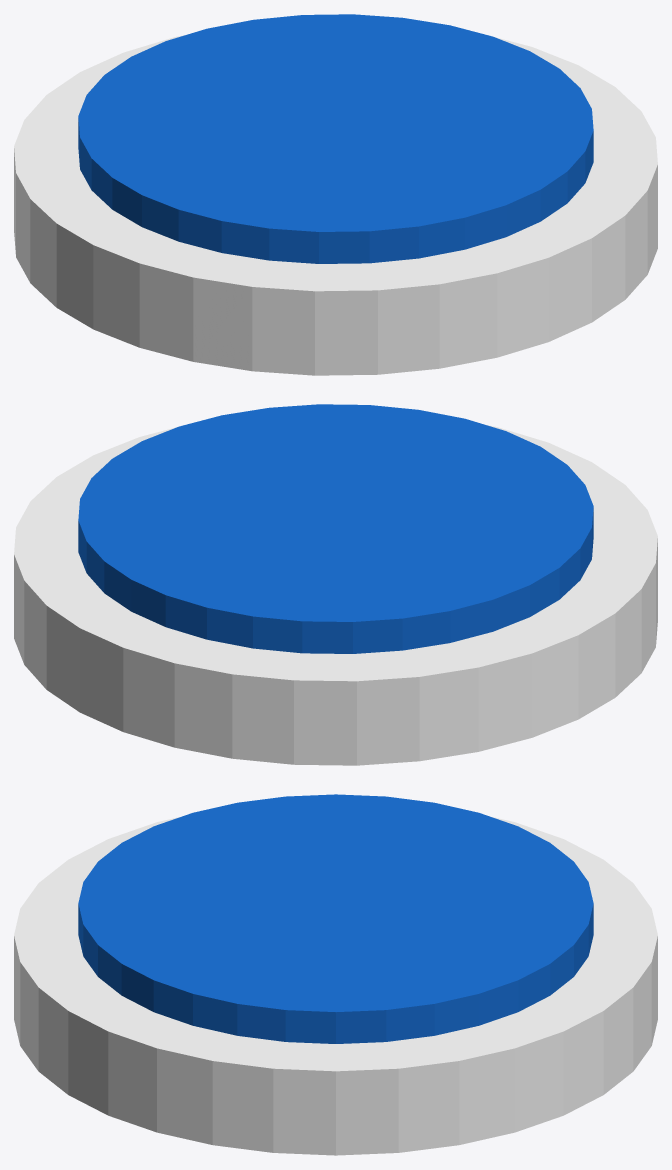
Rendered from locationPuck.glb.
3 views of the same model, one above another, from view 1: azimuth 30°, elevation 25°; view 2: azimuth 150°, elevation 25°; view 3: azimuth 270°, elevation 25° (orthographic).
Visible parts, largest first — view 1: Circle.001, Circle.002; view 2: Circle.001, Circle.002; view 3: Circle.001, Circle.002.
Boxes of the visible parts, x1,y1,x2,y2 form: Circle.001: (78, 14, 593, 263); Circle.002: (14, 35, 657, 375); Circle.001: (78, 404, 593, 653); Circle.002: (14, 425, 657, 765); Circle.001: (78, 794, 593, 1043); Circle.002: (14, 817, 657, 1155).
Size of the model in its own units: 2.7 by 0.5377 by 2.7.
